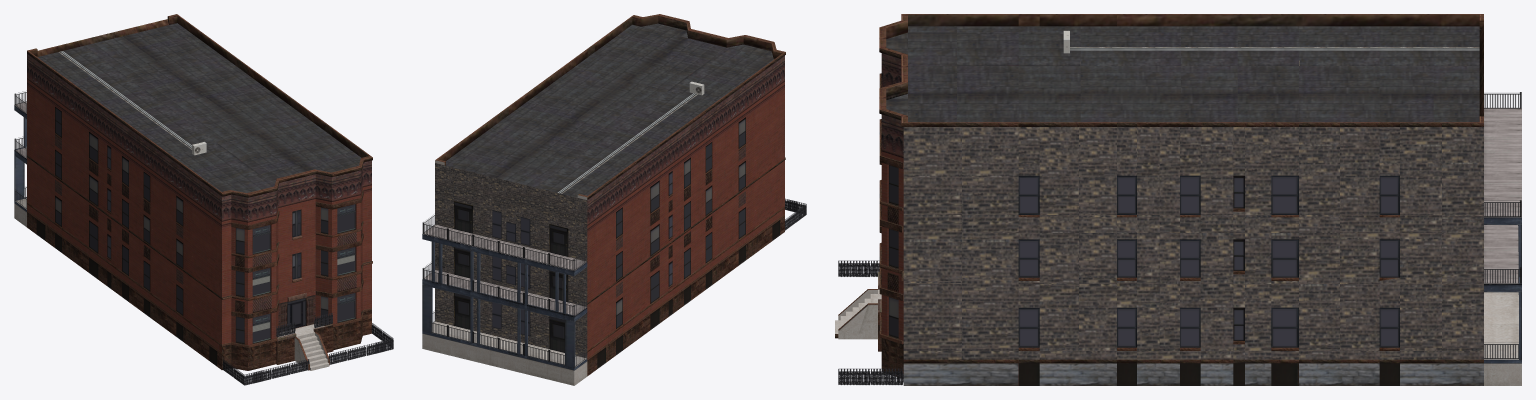
Rendered from lenox.glb.
3 views of the same model, side by side, from view 1: azimuth 30°, elevation 25°; view 2: azimuth 150°, elevation 25°; view 3: azimuth 270°, elevation 25° (orthographic). The views are drawn at different scales.
Parts seen in each view (by area): view 1: Object_2; view 2: Object_2; view 3: Object_2.
Part boxes in pixels (x1,y1,x2,y2): Object_2: (14, 14, 393, 385); Object_2: (422, 14, 806, 385); Object_2: (835, 14, 1521, 385).
Bounding box in the file's own units: 1200 × 1361 × 3195.
Materials: 1 (1 with a texture image).
